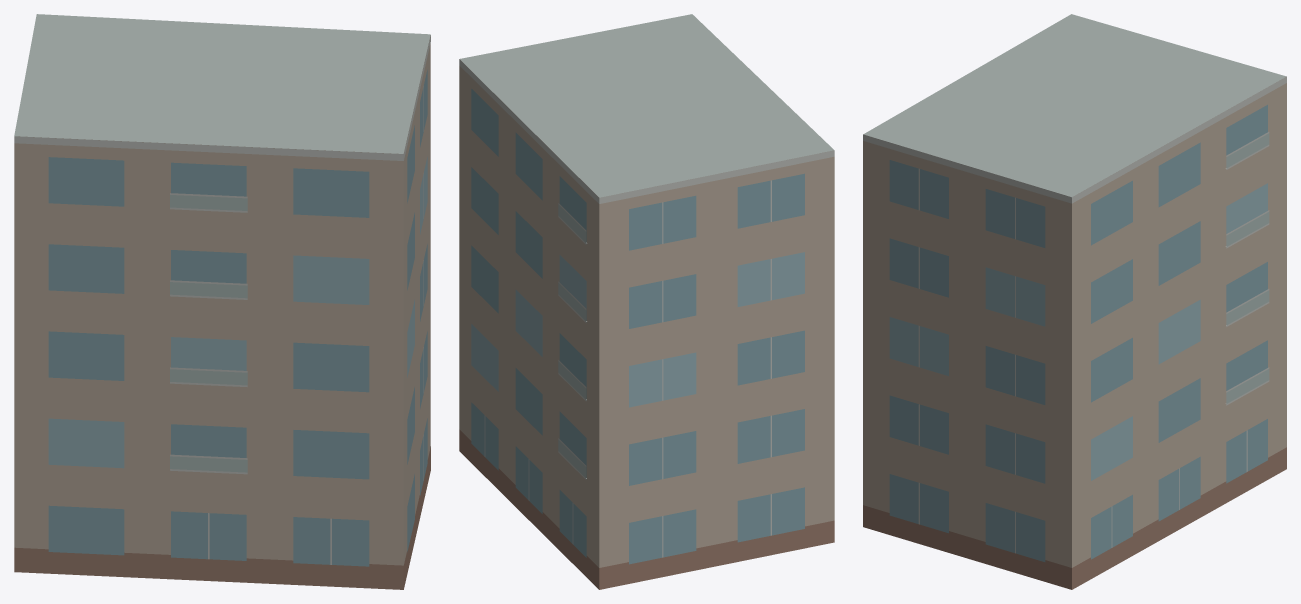
The model's file is survey-upis-32873171.glb.
3 renders of one model, left to right at view 1: azimuth 30°, elevation 25°; view 2: azimuth 150°, elevation 25°; view 3: azimuth 270°, elevation 25°, orthographic. The views are drawn at different scales.
Visible parts, largest first — view 1: survey-upis-32873171.tmp; view 2: survey-upis-32873171.tmp; view 3: survey-upis-32873171.tmp.
Part boxes in pixels (x1,y1,x2,y2): survey-upis-32873171.tmp: [14, 14, 430, 589]; survey-upis-32873171.tmp: [459, 14, 834, 589]; survey-upis-32873171.tmp: [863, 14, 1286, 589].
Bounding box in the file's own units: 15.02 × 15 × 14.68.
